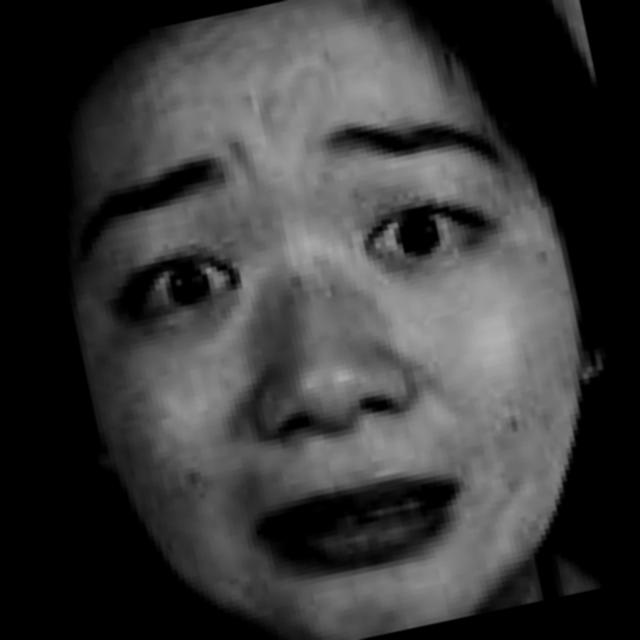fear: (11, 0, 616, 640)
